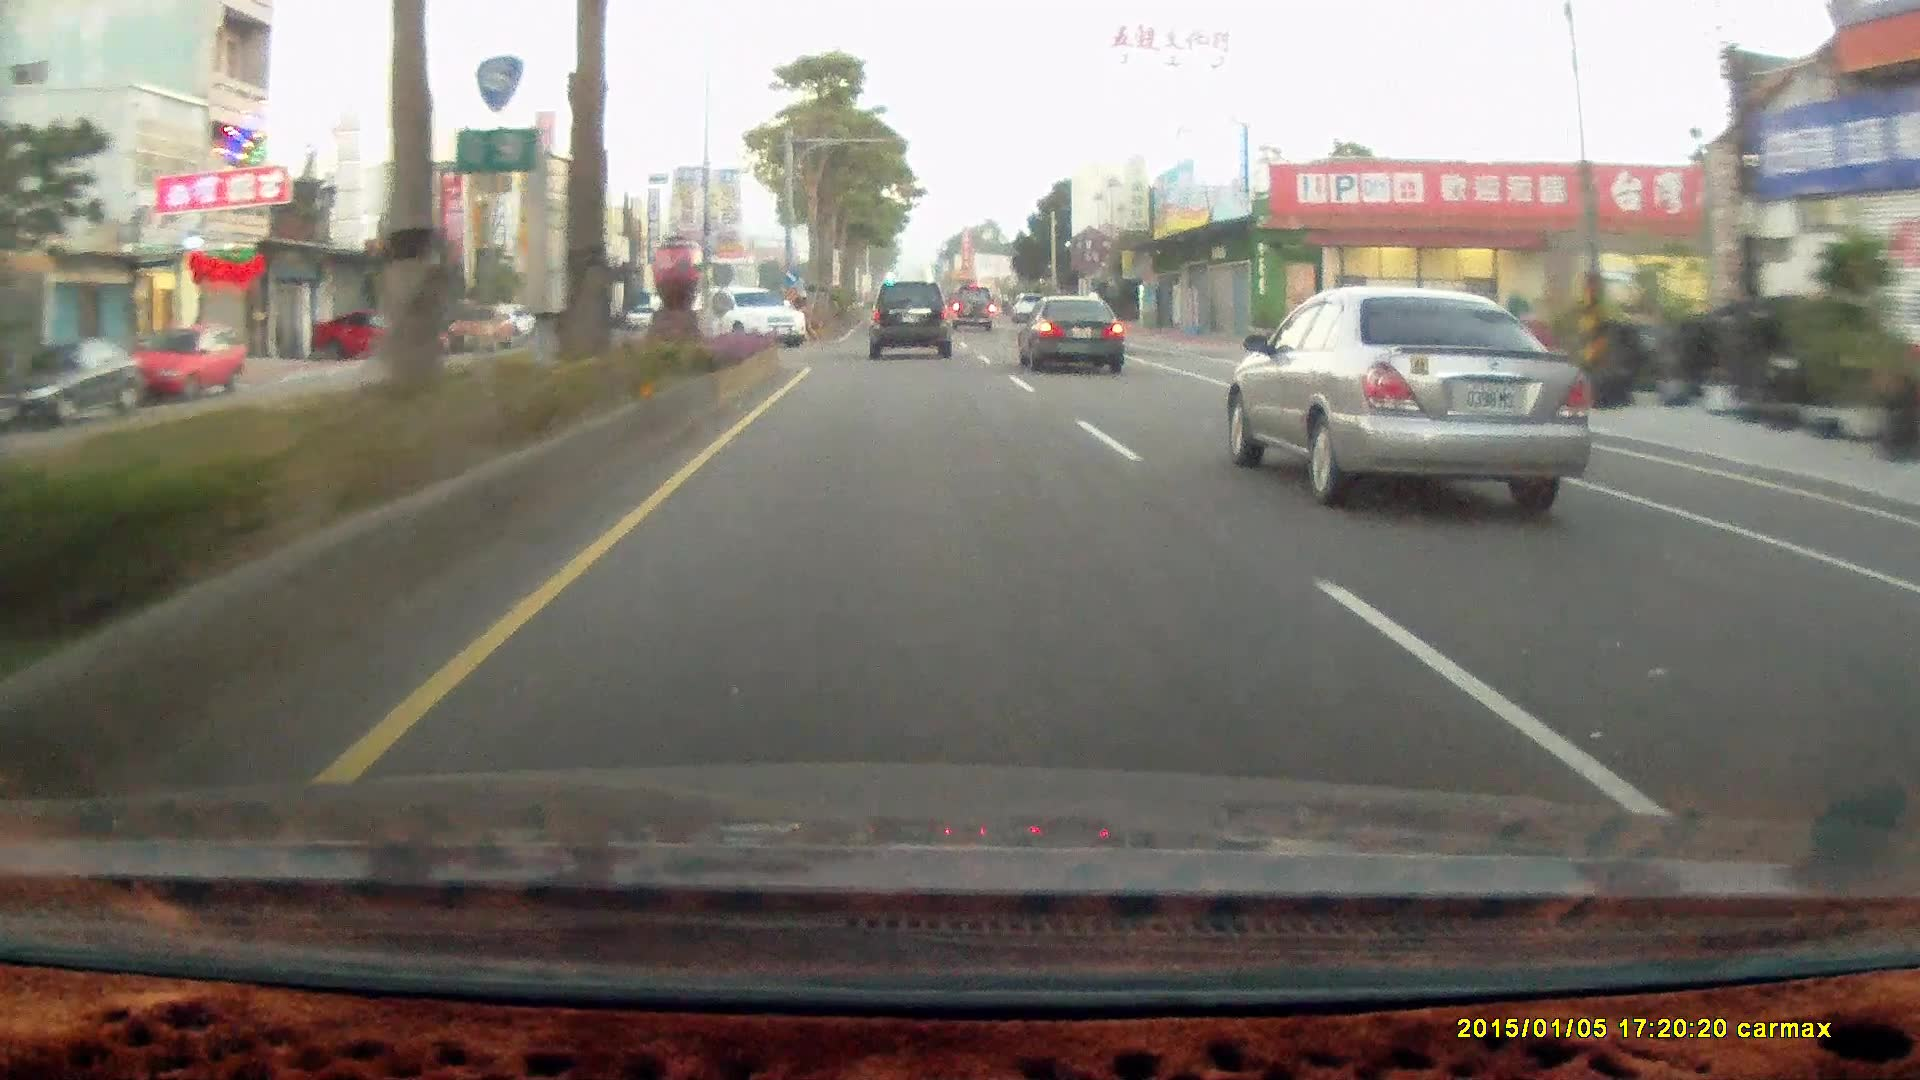vehicle: (1238, 281, 1592, 502), (1, 338, 144, 430), (0, 338, 142, 429), (1014, 287, 1127, 373), (123, 322, 248, 398), (121, 326, 247, 402), (305, 305, 456, 361), (1014, 290, 1122, 369), (305, 301, 448, 357), (698, 284, 808, 348), (869, 276, 959, 353), (866, 280, 949, 357), (717, 282, 810, 345), (948, 284, 996, 334), (948, 284, 996, 332)
